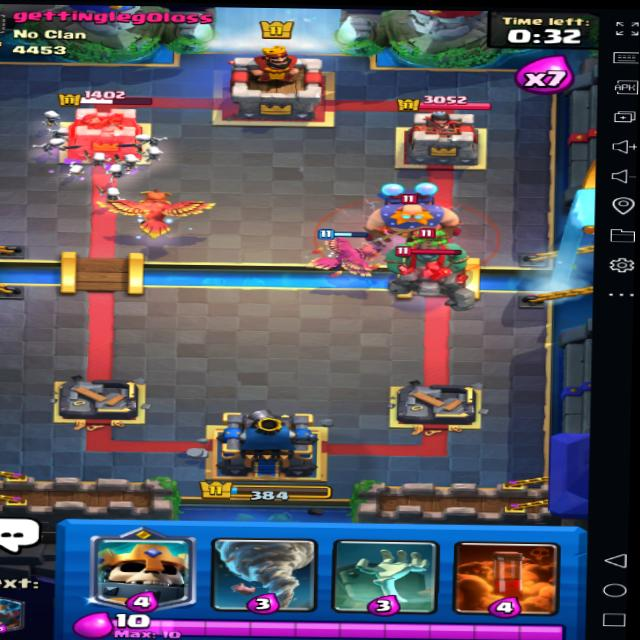electro-giant: (363, 183, 466, 245)
goblin-giant: (390, 220, 467, 275)
golem: (382, 246, 481, 312)
